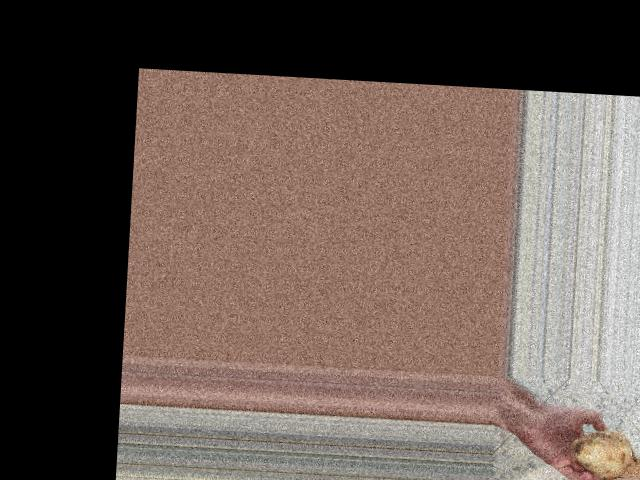onion: (565, 424, 639, 480)
